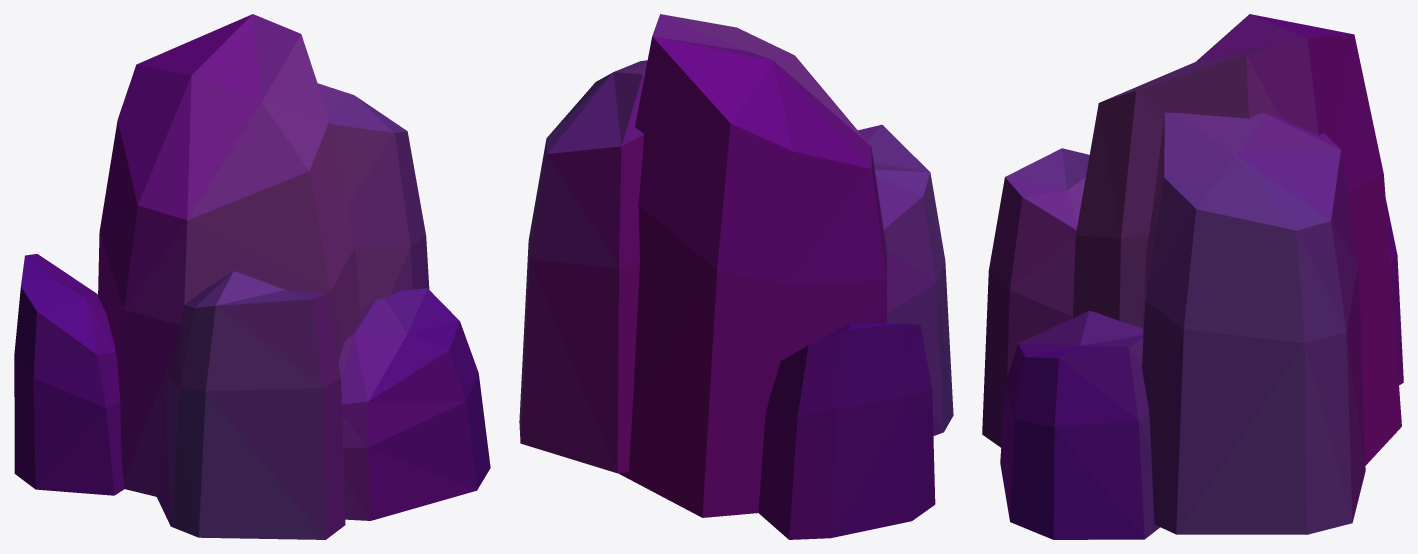
The model's file is SM_CinderCanyon_Rock_B_LOD2.fbx.
The picture shows the model from 3 angles, left to right: view 1: azimuth 30°, elevation 25°; view 2: azimuth 150°, elevation 25°; view 3: azimuth 270°, elevation 25°; orthographic projection. The views are drawn at different scales.
Parts seen in each view (by area): view 1: SM_CinderCanyon_Rock_B_LOD2; view 2: SM_CinderCanyon_Rock_B_LOD2; view 3: SM_CinderCanyon_Rock_B_LOD2.
Part boxes in pixels (x1,y1,x2,y2): SM_CinderCanyon_Rock_B_LOD2: (14, 14, 490, 539); SM_CinderCanyon_Rock_B_LOD2: (519, 14, 953, 539); SM_CinderCanyon_Rock_B_LOD2: (982, 14, 1403, 539).
Bounding box in the file's own units: 100 × 91 × 104.
